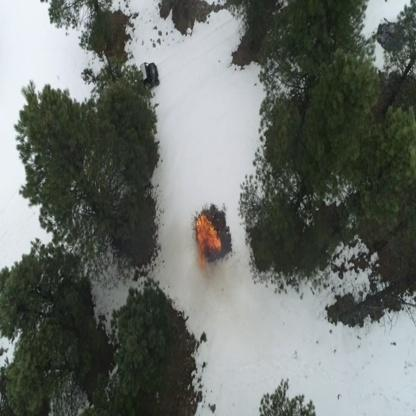Fire: (194, 212, 222, 271)
